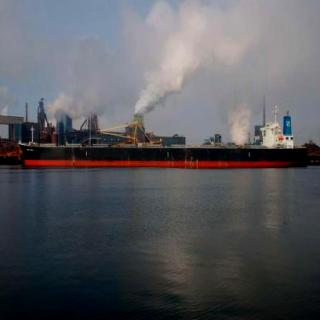Bulk Carrier: (5, 102, 320, 170)
